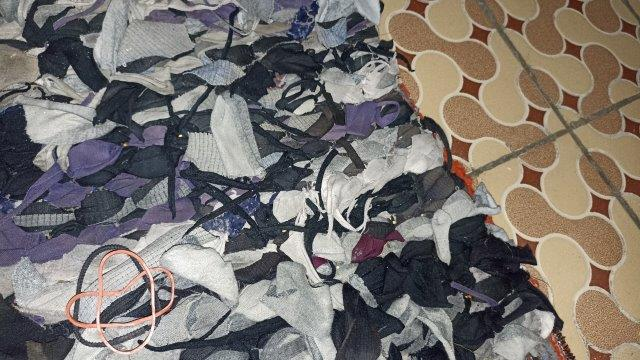karet: (66, 244, 176, 353)
